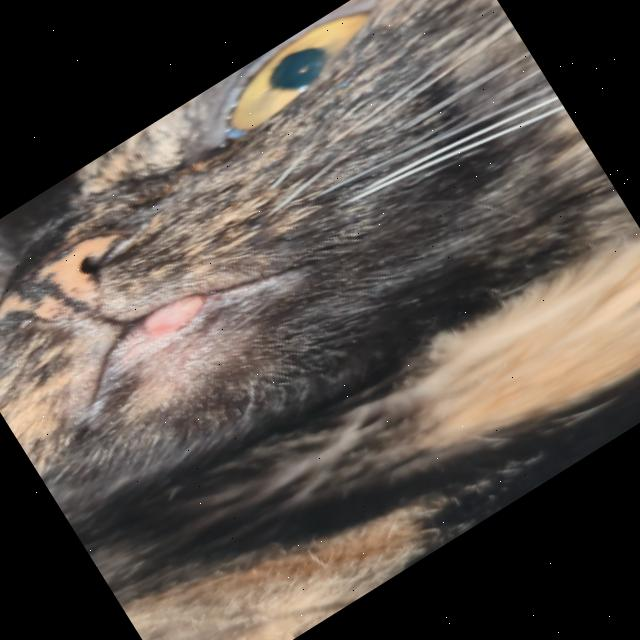cat-lump-and-bump: (128, 274, 226, 352)
